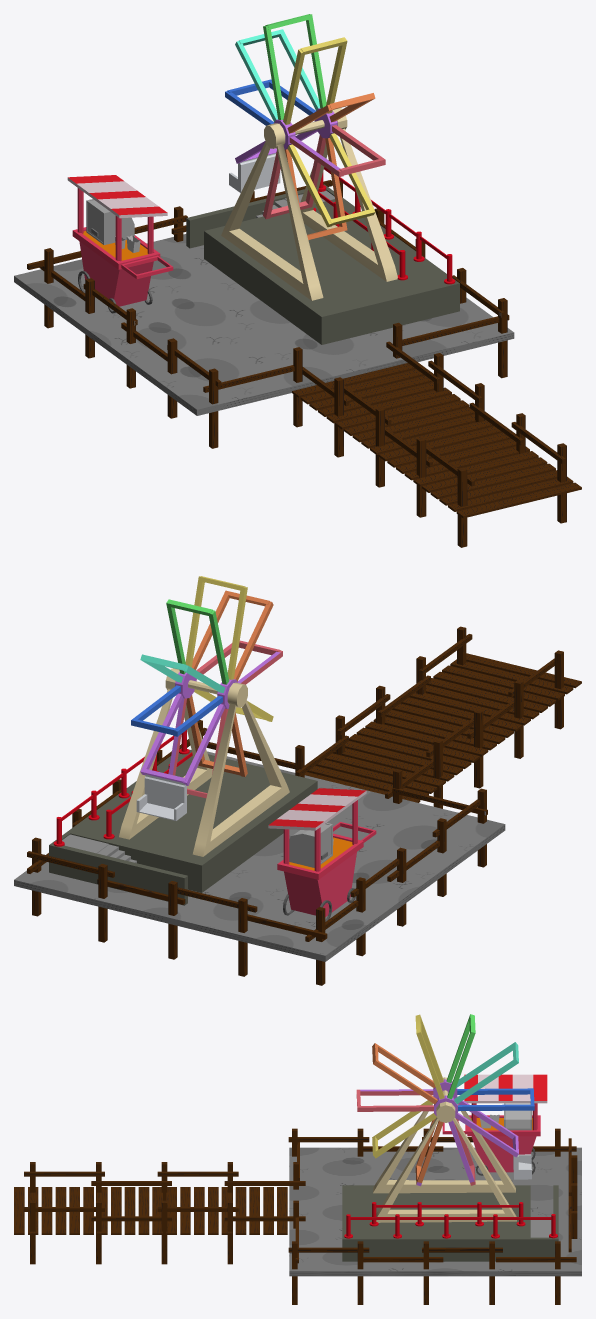
Rendered from Ponte 1.fbx.
3 renders of one model, top to bottom at view 1: azimuth 30°, elevation 25°; view 2: azimuth 150°, elevation 25°; view 3: azimuth 270°, elevation 25°, orthographic. The views are drawn at different scales.
Parts seen in each view (by area): view 1: Cube.008, Cube, Cube.007, Cylinder.001, Cube.016, Cube.004, Cube.019, Cube.009, Cube.006, Cube.001, Cube.002, Cube.003 (+8 smaller); view 2: Cube.008, Cube, Cube.007, Cylinder.001, Cube.004, Cube.016, Cube.009, Cube.019, Cube.013, Cube.006, Cube.001, Cube.022 (+10 smaller); view 3: Cube.008, Cube.007, Cube, Cylinder.001, Cube.006, Cube.004, Cube.016, Cube.019, Cube.001, Cube.009, Cube.002, Cube.003 (+9 smaller).
Boxes of the visible parts, left/top/right/bottom form: Cube.008: left=14, top=234, right=514, bottom=415; Cube: left=292, top=363, right=581, bottom=518; Cube.007: left=204, top=197, right=459, bottom=344; Cylinder.001: left=225, top=14, right=385, bottom=239; Cube.016: left=293, top=322, right=566, bottom=547; Cube.004: left=221, top=123, right=323, bottom=300; Cube.019: left=44, top=181, right=507, bottom=448; Cube.009: left=72, top=227, right=173, bottom=306; Cube.006: left=295, top=108, right=397, bottom=281; Cube.001: left=67, top=175, right=167, bottom=218; Cube.002: left=344, top=360, right=565, bottom=486; Cube.003: left=302, top=341, right=523, bottom=467; Cube.008: left=14, top=751, right=505, bottom=961; Cube: left=304, top=653, right=581, bottom=802; Cube.007: left=66, top=748, right=317, bottom=892; Cylinder.001: left=131, top=576, right=282, bottom=798; Cube.004: left=192, top=682, right=289, bottom=856; Cube.016: left=295, top=626, right=563, bottom=808; Cube.009: left=277, top=822, right=376, bottom=916; Cube.019: left=32, top=720, right=486, bottom=985; Cube.013: left=49, top=832, right=187, bottom=905; Cube.006: left=119, top=668, right=217, bottom=839; Cube.001: left=268, top=788, right=366, bottom=830; Cube.022: left=98, top=864, right=247, bottom=976; Cube.008: left=289, top=1147, right=581, bottom=1276; Cube.007: left=342, top=1185, right=530, bottom=1261; Cube: left=14, top=1187, right=287, bottom=1234; Cylinder.001: left=356, top=1014, right=534, bottom=1186; Cube.006: left=376, top=1090, right=516, bottom=1222; Cube.004: left=373, top=1077, right=515, bottom=1193; Cube.016: left=30, top=1162, right=298, bottom=1264; Cube.019: left=292, top=1128, right=560, bottom=1304; Cube.001: left=464, top=1074, right=547, bottom=1103; Cube.009: left=442, top=1115, right=540, bottom=1172; Cube.002: left=24, top=1171, right=238, bottom=1211; Cube.003: left=91, top=1181, right=305, bottom=1221.
Bounding box in the file's own units: 2204 × 1998 × 4276.
